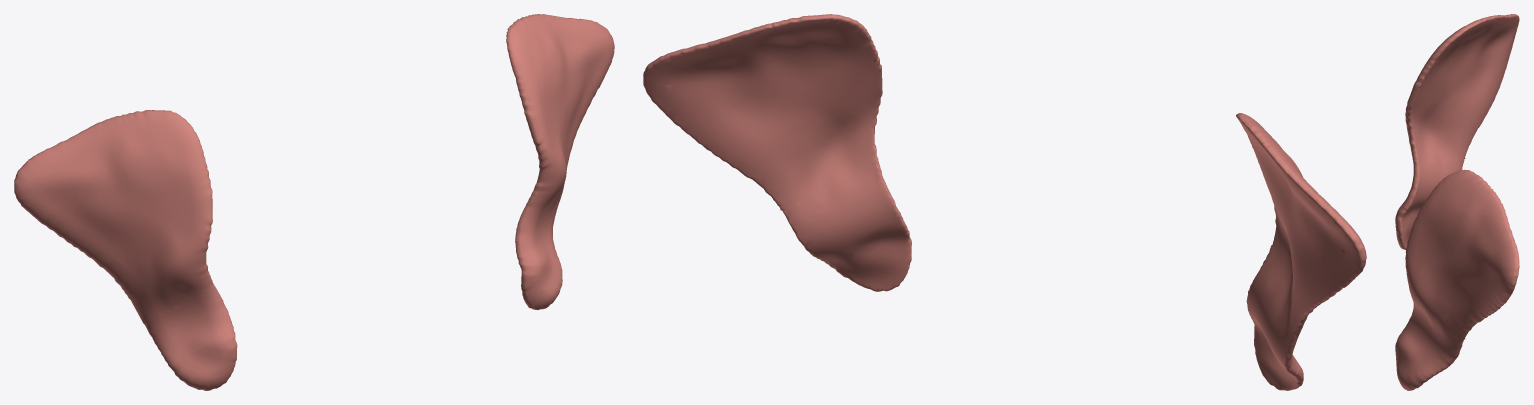
File: levator_labii_superioris.glb
3 views of the same model, side by side, from view 1: azimuth 30°, elevation 25°; view 2: azimuth 150°, elevation 25°; view 3: azimuth 270°, elevation 25° (orthographic). The views are drawn at different scales.
Visible parts, largest first — view 1: levator_labii_superioris_R, levator_labii_superioris_L; view 2: levator_labii_superioris_L, levator_labii_superioris_R; view 3: levator_labii_superioris_L, levator_labii_superioris_R.
Part boxes in pixels (left/top/right/bottom): levator_labii_superioris_R: left=14, top=110, right=237, bottom=390; levator_labii_superioris_L: left=506, top=14, right=614, bottom=309; levator_labii_superioris_L: left=643, top=14, right=911, bottom=291; levator_labii_superioris_R: left=1236, top=113, right=1366, bottom=390; levator_labii_superioris_L: left=1395, top=169, right=1519, bottom=390; levator_labii_superioris_R: left=1395, top=14, right=1519, bottom=249.
Bounding box in the file's own units: 0.064 × 0.0259 × 0.0133.
